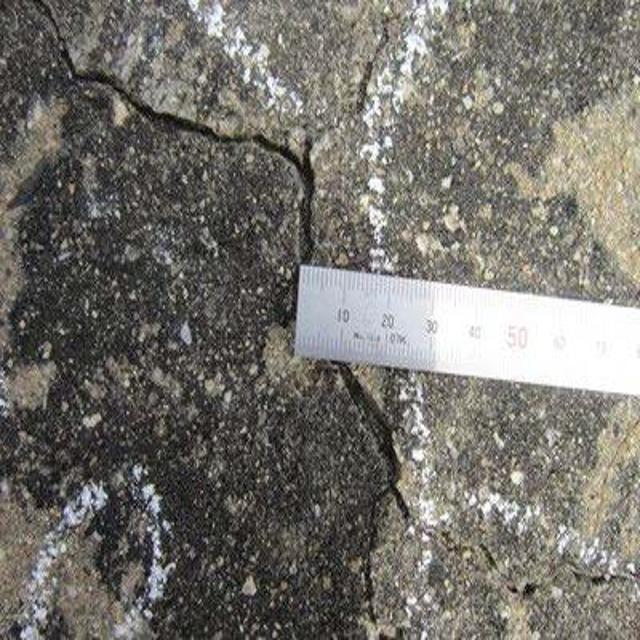crack: (36, 6, 374, 261), (330, 372, 616, 634)
